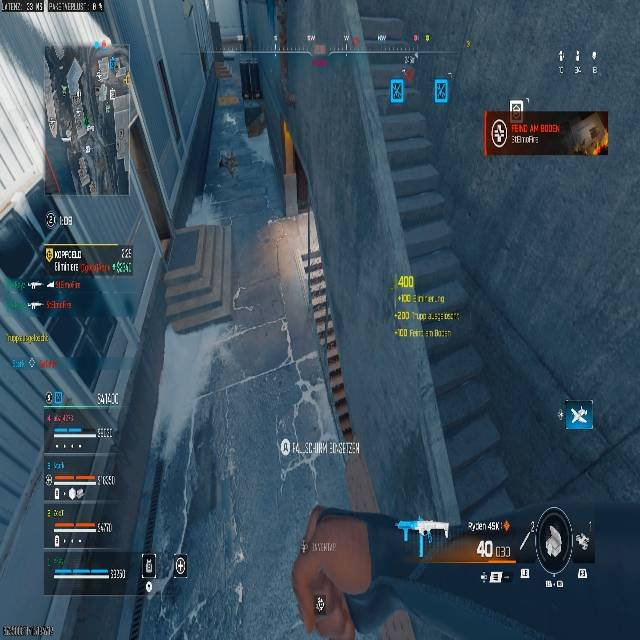player: (217, 150, 240, 179)
